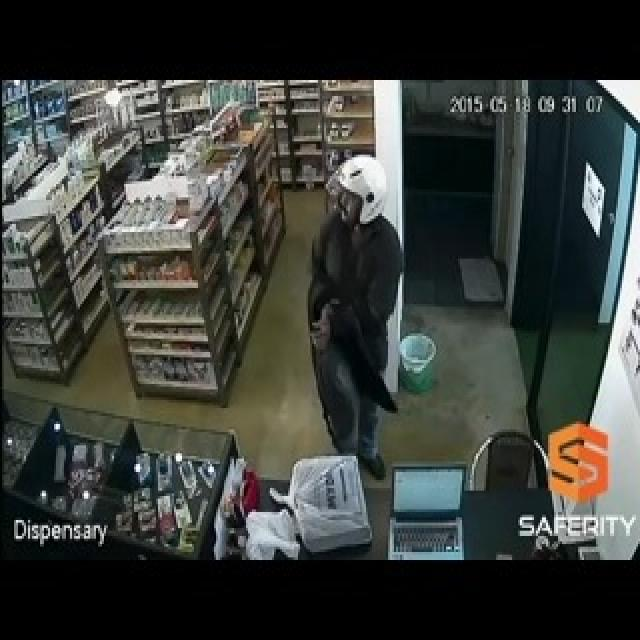thief: (289, 185, 422, 456)
